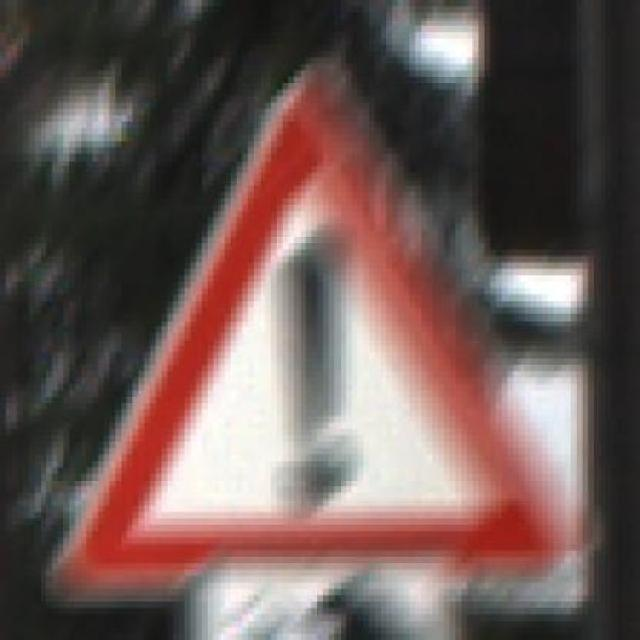Attention Please-: (28, 51, 566, 589)
